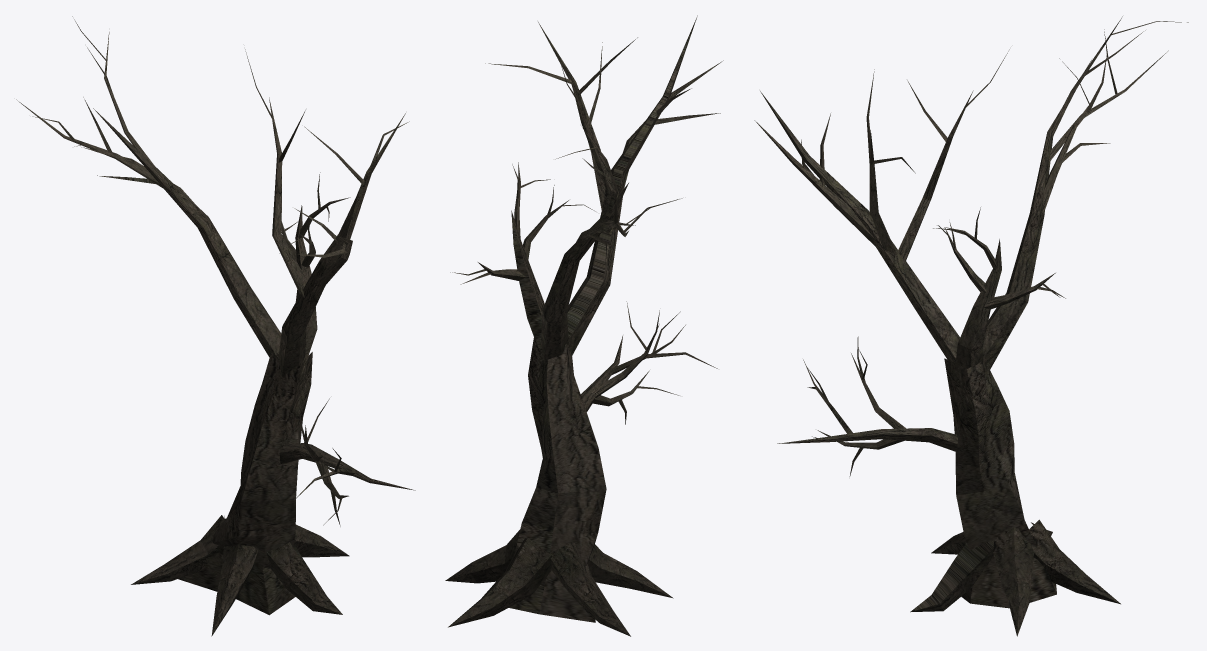
The model's file is tree_dead_b_v5.glb.
The picture shows the model from 3 angles, left to right: view 1: azimuth 30°, elevation 25°; view 2: azimuth 150°, elevation 25°; view 3: azimuth 270°, elevation 25°; orthographic projection. The views are drawn at different scales.
Parts seen in each view (by area): view 1: tree_dead_b_v5; view 2: tree_dead_b_v5; view 3: tree_dead_b_v5.
Boxes of the visible parts, box(x1,y1,x2,y2) form: tree_dead_b_v5: box(16, 16, 415, 636); tree_dead_b_v5: box(445, 15, 723, 636); tree_dead_b_v5: box(754, 16, 1188, 636).
Bounding box in the file's own units: 3.51 × 6.38 × 4.64.
Materials: 1 (1 with a texture image).
